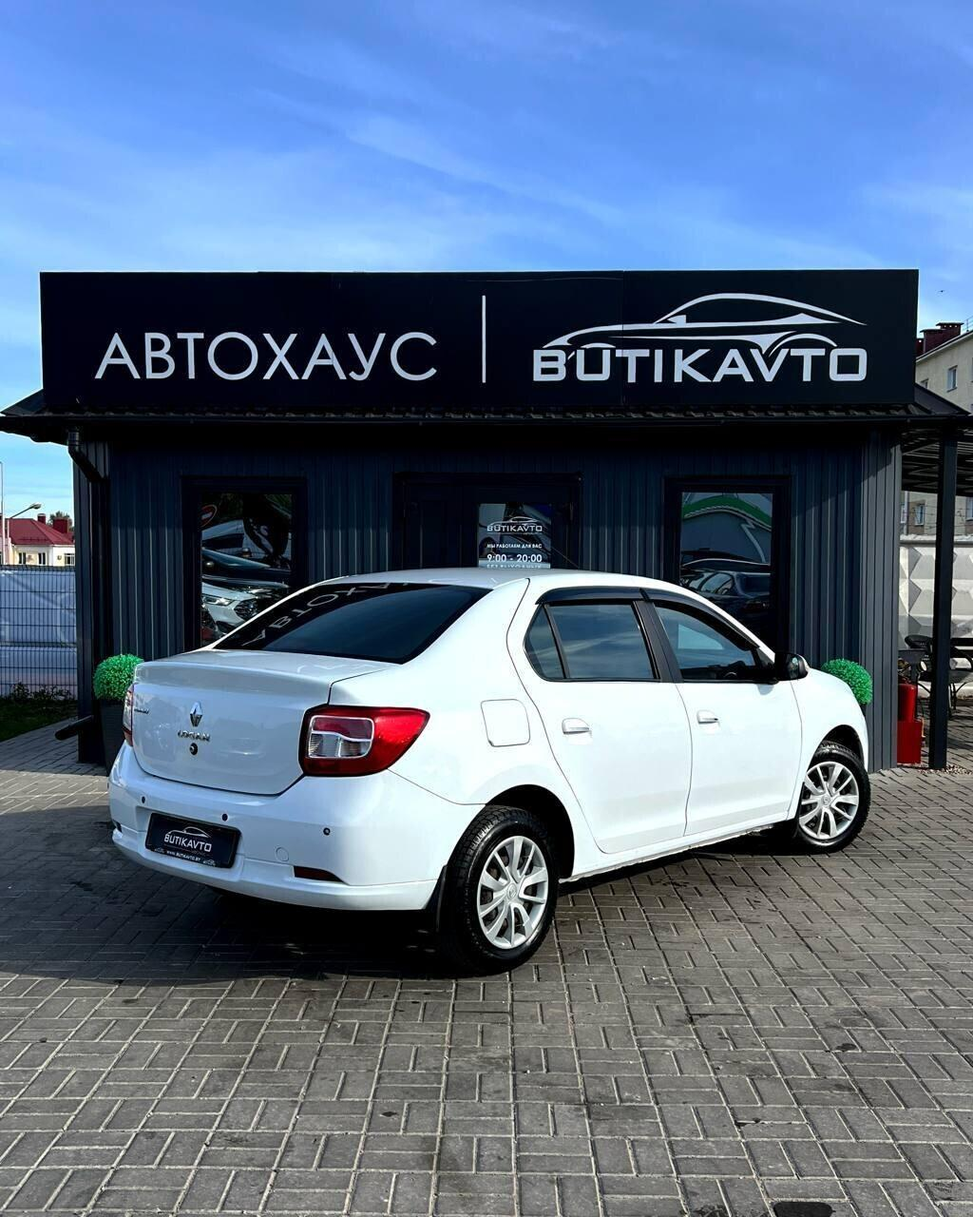Logan_2013-2018: (100, 556, 874, 990)
